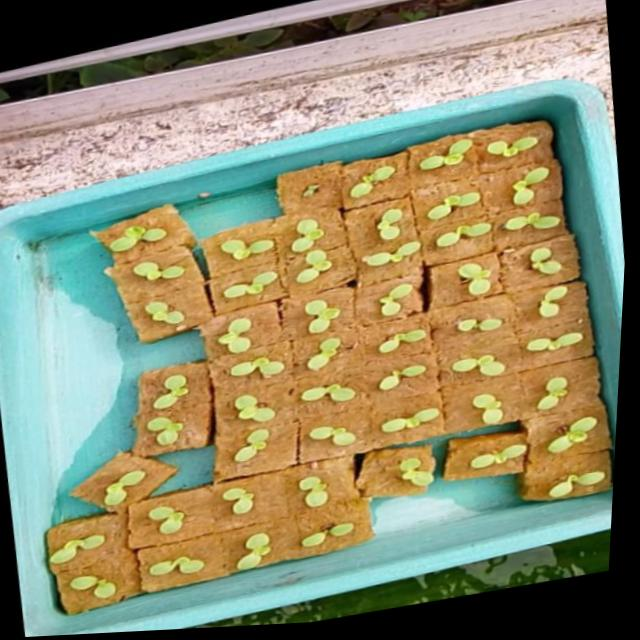Baby: (545, 362, 610, 408), (120, 447, 179, 496), (77, 555, 147, 593), (92, 519, 149, 560), (474, 291, 540, 321), (252, 338, 305, 374), (250, 254, 309, 285), (454, 117, 509, 150), (402, 266, 451, 303), (564, 220, 608, 259), (536, 188, 601, 214), (159, 543, 224, 569), (239, 382, 299, 410), (392, 223, 454, 250), (134, 209, 192, 237), (381, 146, 429, 179), (403, 351, 456, 379), (166, 404, 204, 442), (469, 205, 526, 230), (550, 148, 586, 186), (258, 521, 293, 559), (244, 303, 279, 340), (405, 315, 454, 341), (325, 233, 361, 268), (257, 416, 292, 452), (334, 285, 369, 320), (479, 342, 534, 364), (490, 246, 525, 280), (332, 324, 367, 358), (522, 116, 575, 138), (557, 320, 615, 340), (320, 203, 353, 237), (326, 370, 381, 390), (248, 220, 299, 240), (176, 361, 212, 389), (173, 493, 209, 521), (158, 247, 211, 266), (170, 286, 210, 311), (500, 382, 532, 413), (322, 465, 352, 497), (570, 270, 599, 303), (471, 173, 514, 194), (409, 189, 435, 223), (245, 476, 276, 503), (343, 414, 378, 434)
